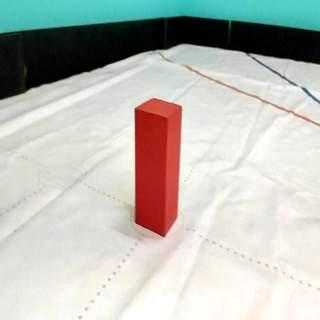redbox: (134, 98, 182, 238)
